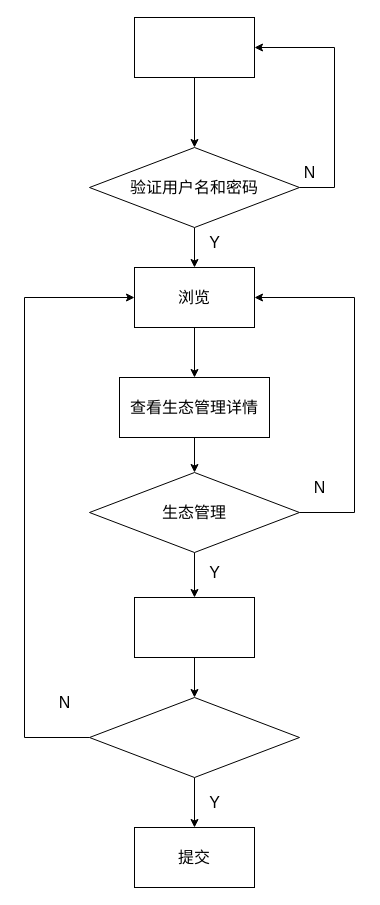
This 380x905 diagram has some shape labels left out. The shapes that lost their labels are listed below. From the top down, each one's box as (x1, y1, x2, y2) in pixels, then its label:
(134, 16, 254, 78): 用户登录
(134, 596, 254, 658): 确认
(88, 696, 300, 778): 继续
